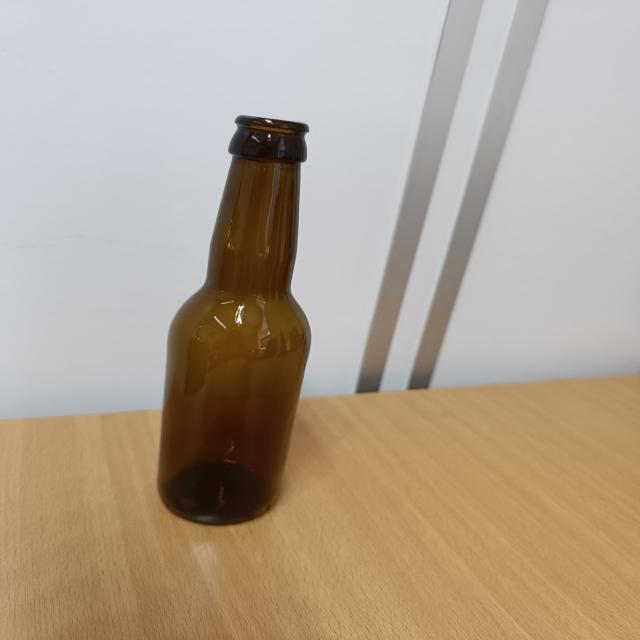Bottle: (157, 115, 311, 525)
